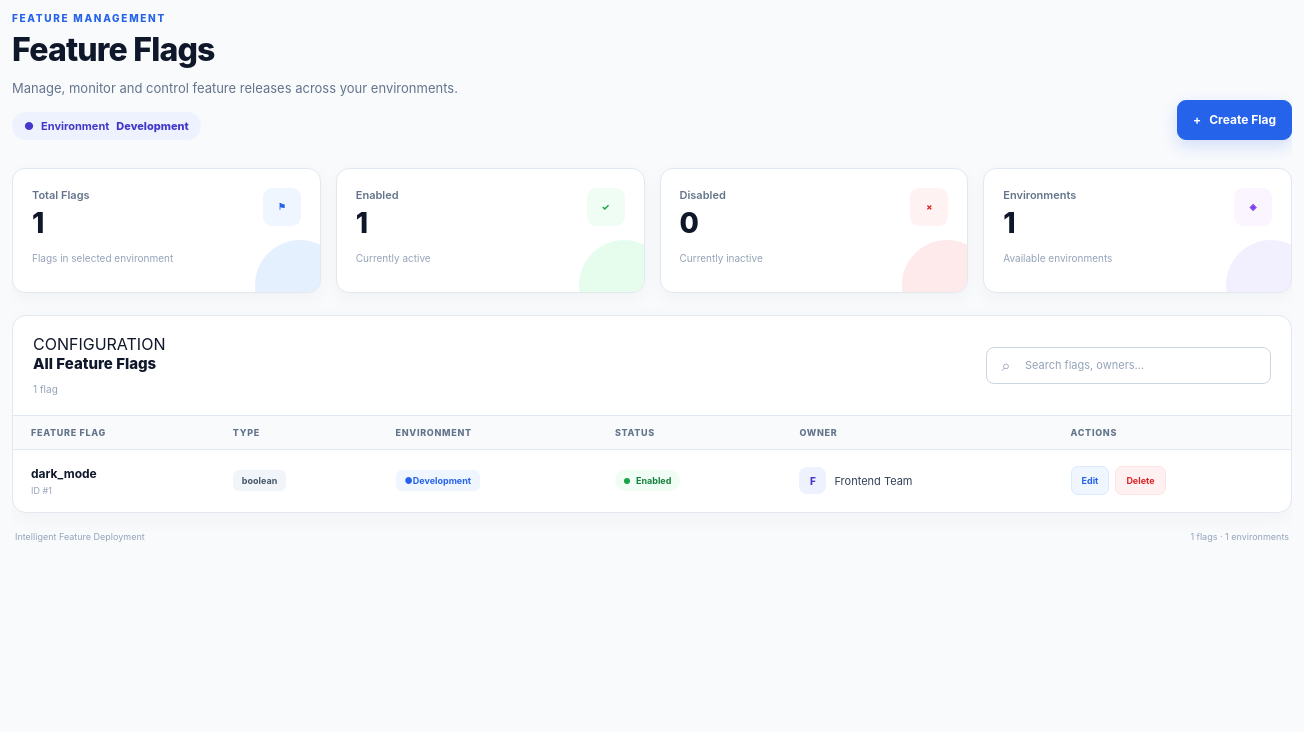
Test case: FlagPage - Search › shows search empty state when no flag matches
Expected: the link "dark_mode" is shown, [31, 466, 97, 481]
Type "xyzabc123" into the field with placeholder "Search flags, owners..." at [1148, 365], box [1025, 348, 1270, 383]
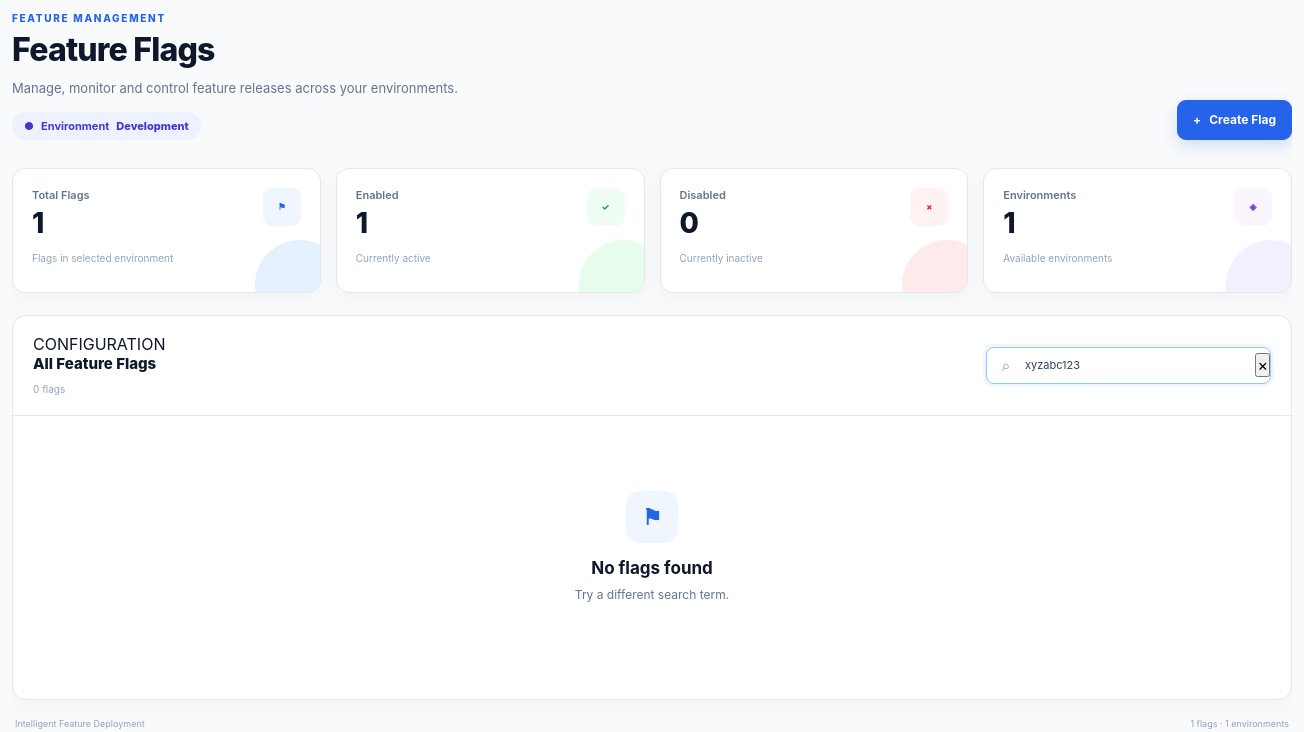
Now the heading "No flags found" is shown, box [591, 558, 713, 578]
Now the text "Try a different search term." is shown, box [575, 587, 729, 602]
Now the link "dark_mode" is gone
